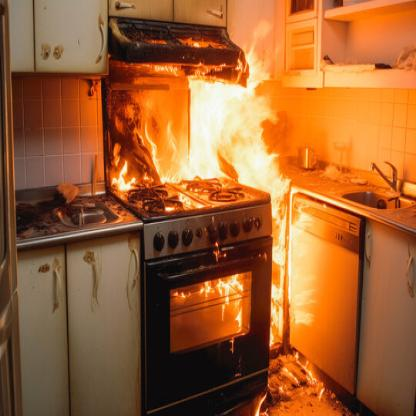fire: (135, 30, 305, 331)
